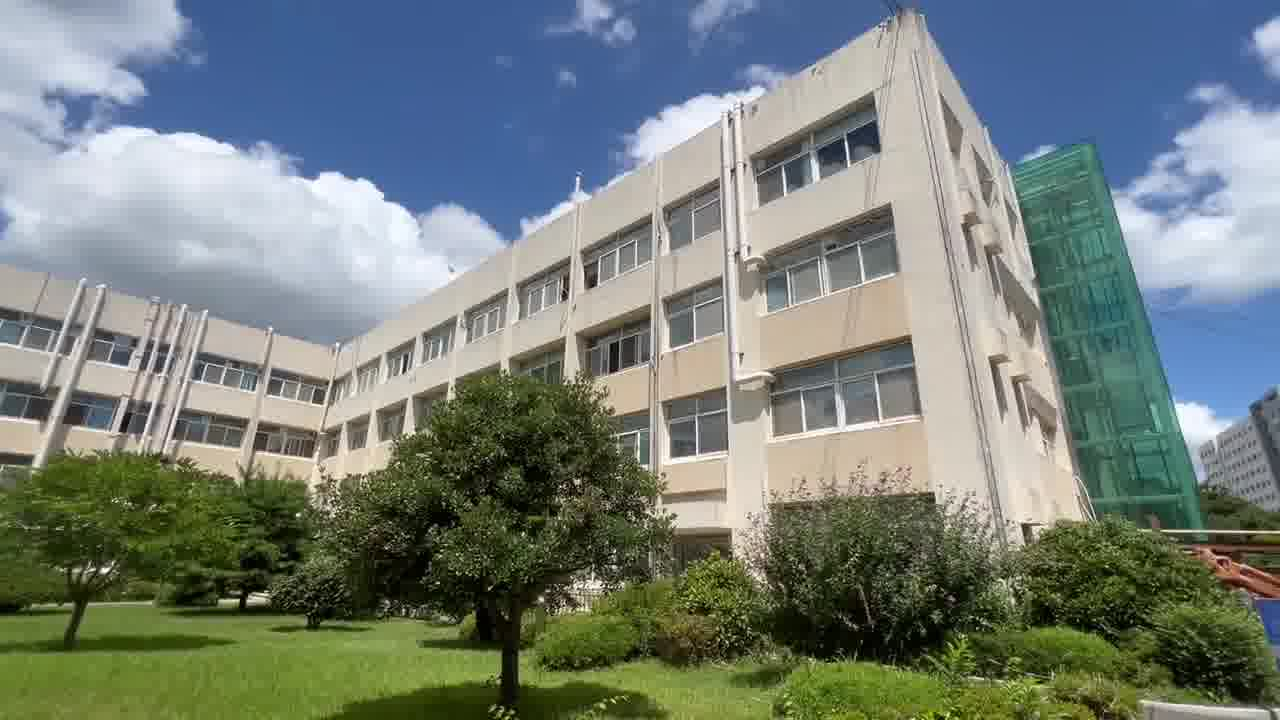low: (649, 79, 1165, 501)
